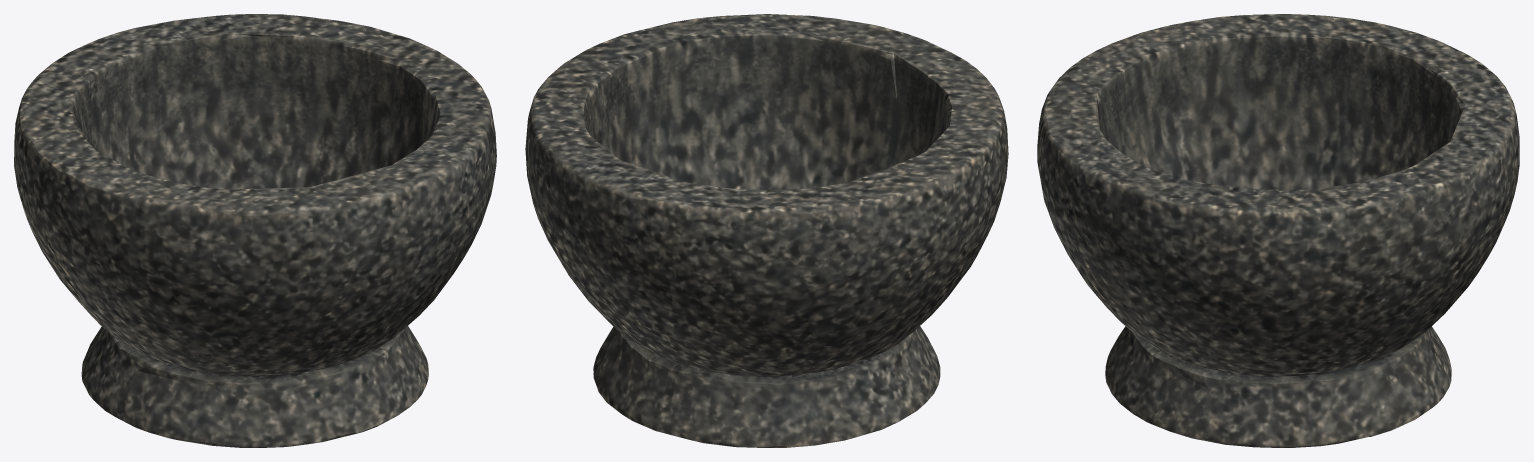
The model's file is Mortar.fbx.
The picture shows the model from 3 angles, left to right: view 1: azimuth 30°, elevation 25°; view 2: azimuth 150°, elevation 25°; view 3: azimuth 270°, elevation 25°; orthographic projection.
Visible parts, largest first — view 1: output_unwrapped; view 2: output_unwrapped; view 3: output_unwrapped.
Boxes of the visible parts, x1,y1,x2,y2 form: output_unwrapped: (14, 14, 496, 447); output_unwrapped: (525, 14, 1008, 447); output_unwrapped: (1037, 14, 1519, 447).
Bounding box in the file's own units: 190 × 116 × 190.
Materials: 1 (1 with a texture image).
